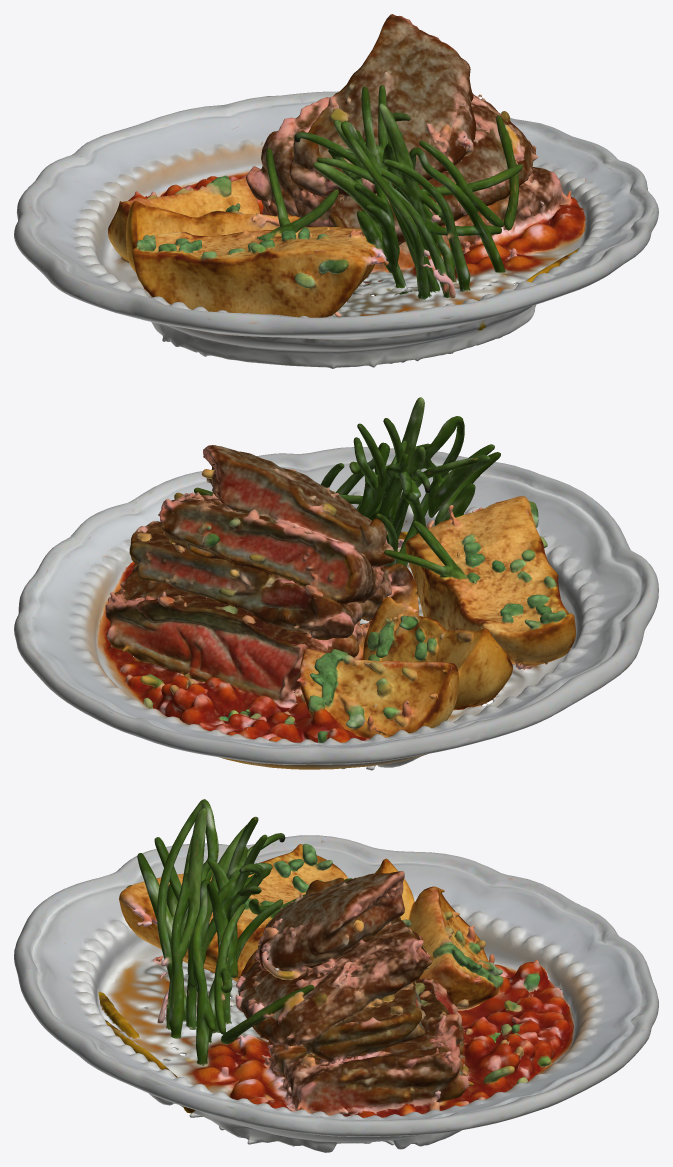
File: ribeye.glb
3 renders of one model, top to bottom at view 1: azimuth 30°, elevation 25°; view 2: azimuth 150°, elevation 25°; view 3: azimuth 270°, elevation 25°, orthographic.
Visible parts, largest first — view 1: Mesh_0; view 2: Mesh_0; view 3: Mesh_0.
Part boxes in pixels (bbox=[...]): Mesh_0: bbox=[14, 14, 658, 368]; Mesh_0: bbox=[14, 397, 658, 770]; Mesh_0: bbox=[14, 799, 658, 1152].
Size of the model in its own units: 0.28 by 0.1224 by 0.2775.
Materials: 1 (1 with a texture image).
